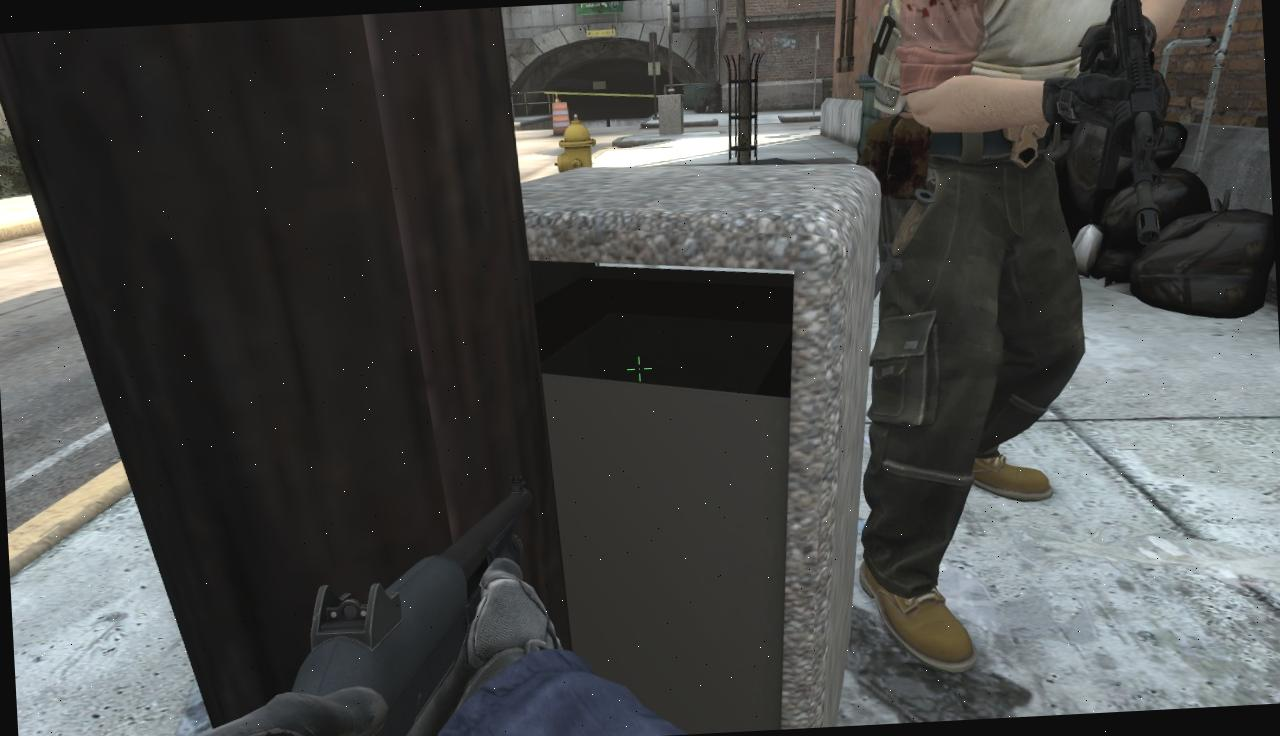shotgun: (194, 478, 556, 736)
tt: (831, 0, 1232, 679)
